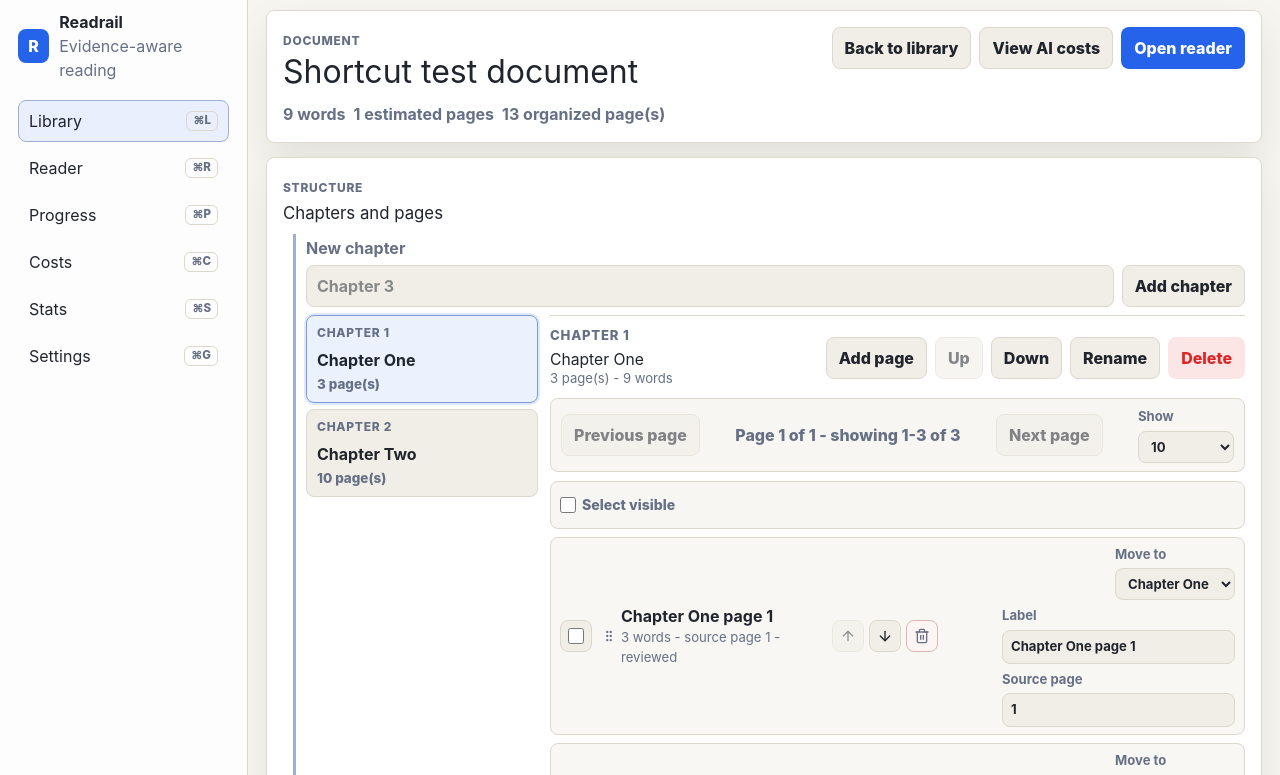
Test: app section shortcuts › selects multiple structured pages and deletes them together from the organizer
This screenshot has width=1280, height=775.
Click the checkbox named "Select Chapter One page 1".
click(576, 636)  # box [568,628,584,644]
(page scrolled)
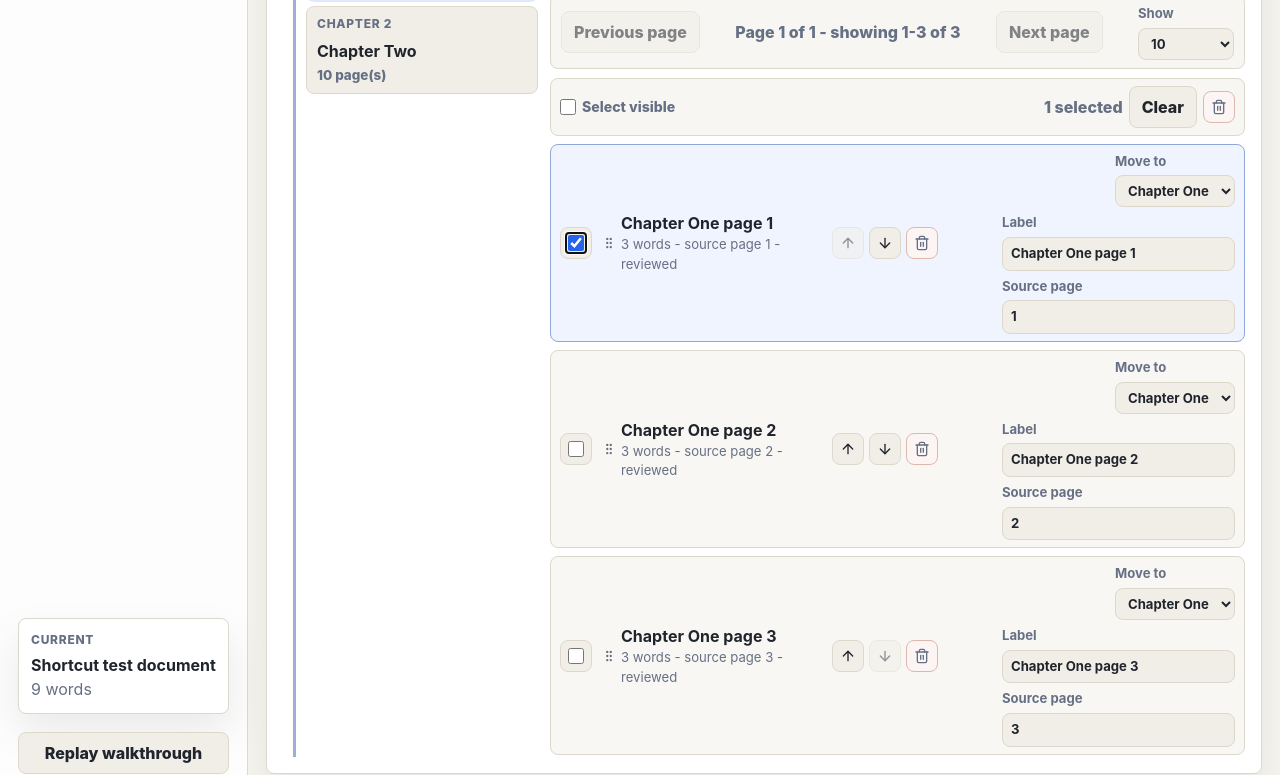
Click the checkbox named "Select Chapter One page 2".
click(576, 449)  # box [568,441,584,457]
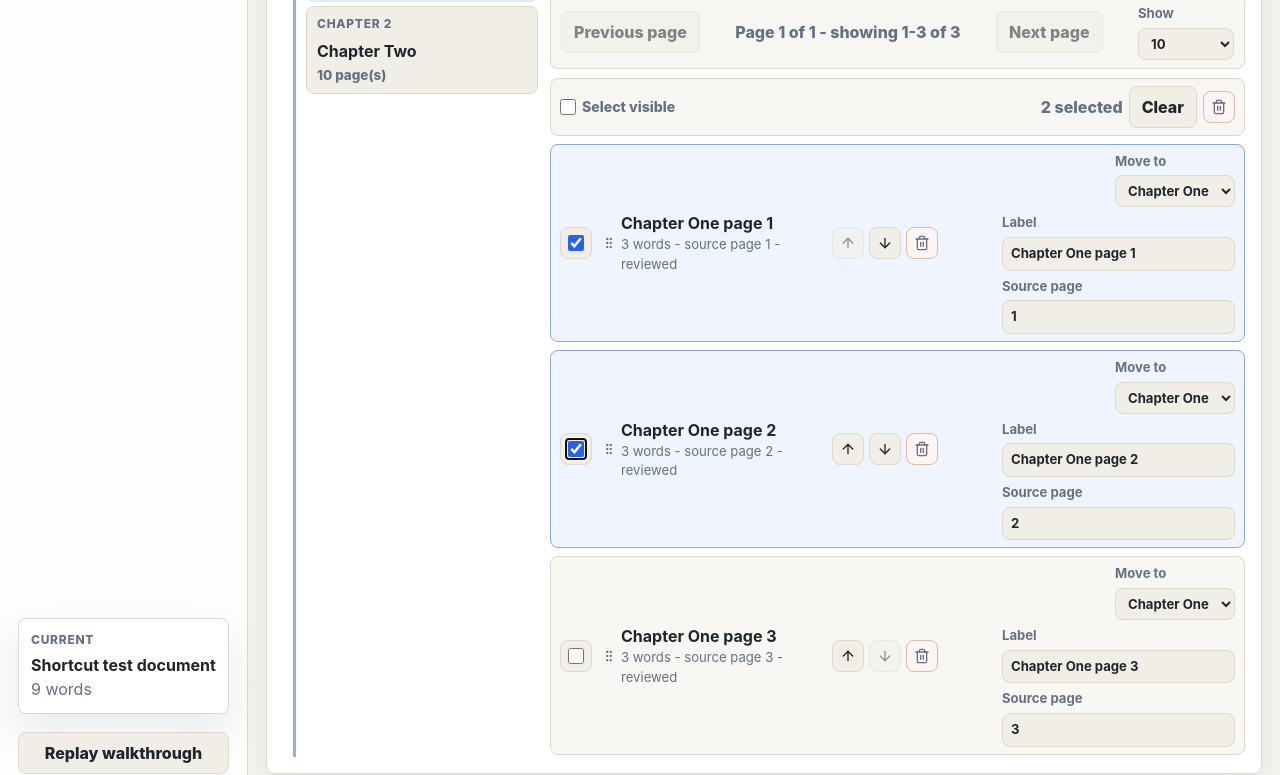
Expected: the text "2 selected" is shown, [1041,95,1123,119]
Click the button named "Delete 2 selected pages".
click(1219, 107)  # box [1203,91,1235,123]
(page scrolled)
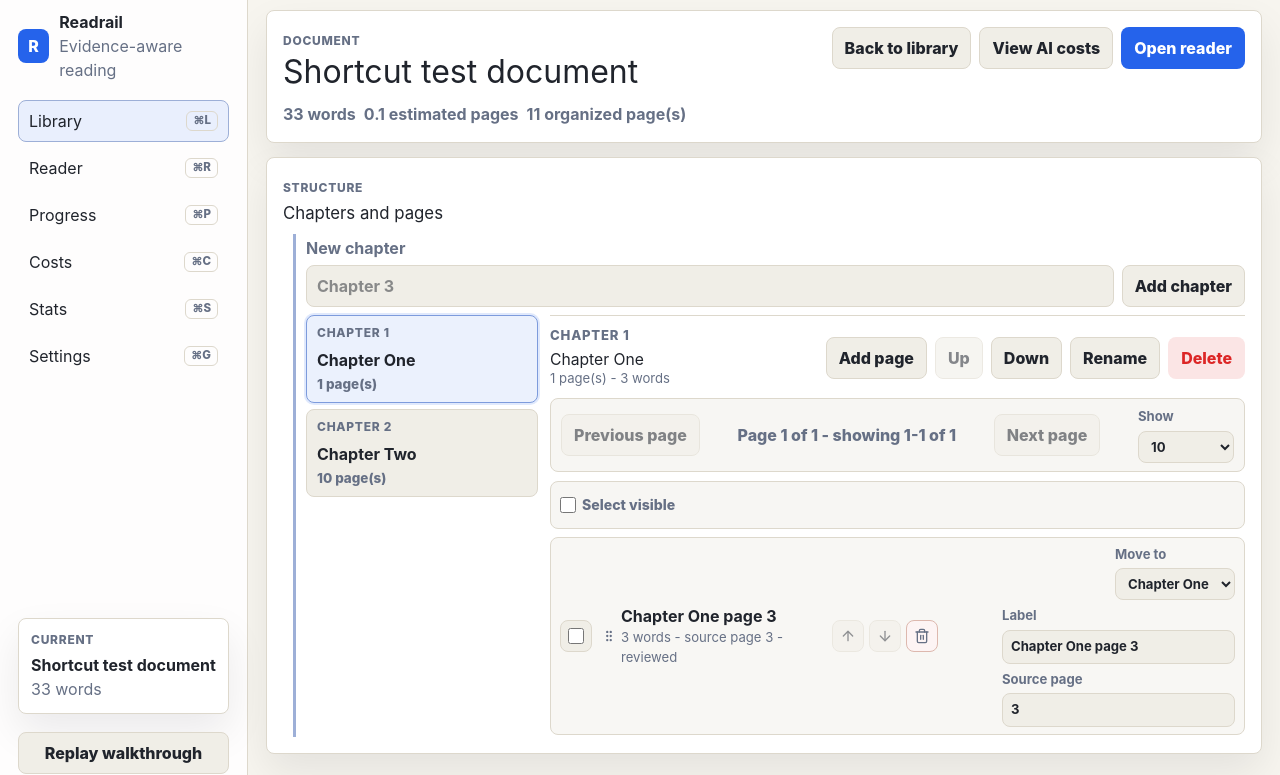
Expected: the text "Chapter One page 1" is gone
Expected: the text "Chapter One page 2" is gone
